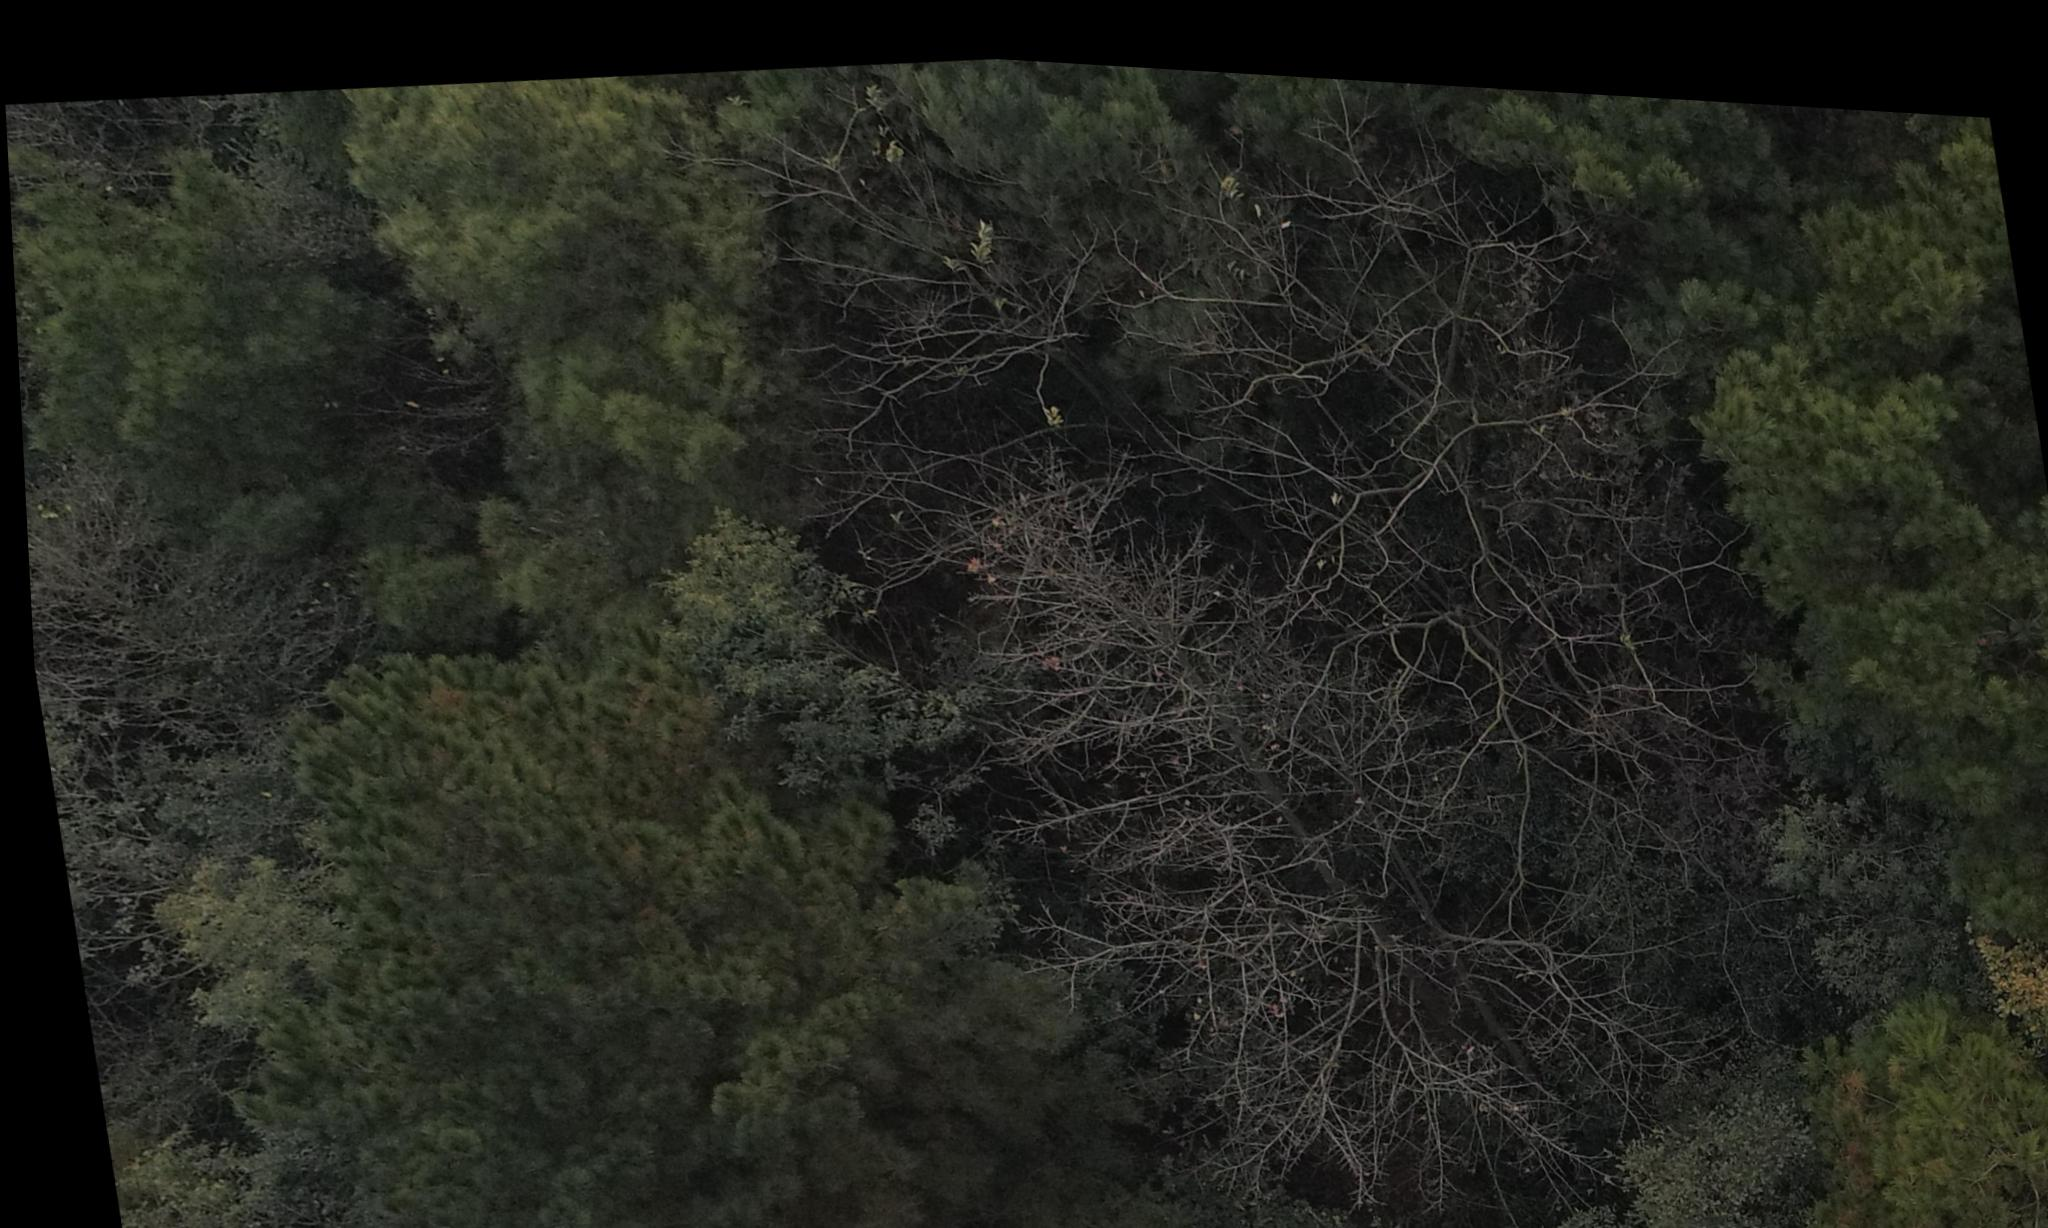dead: (827, 67, 1794, 1228)
